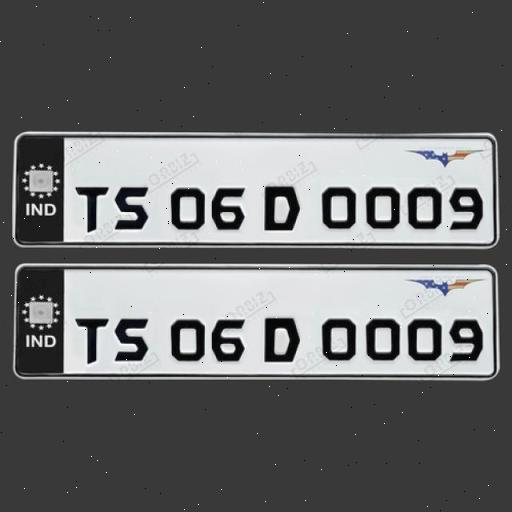number plate: (12, 262, 501, 378), (6, 134, 508, 246)
